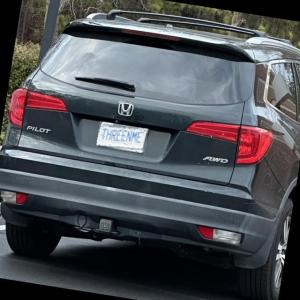Plate: (94, 120, 150, 153)
